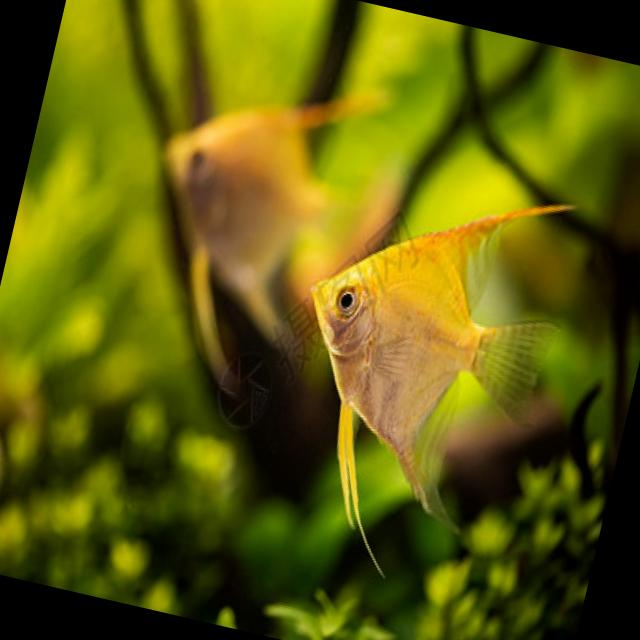AngelFish: (250, 148, 592, 607), (120, 2, 376, 394)
